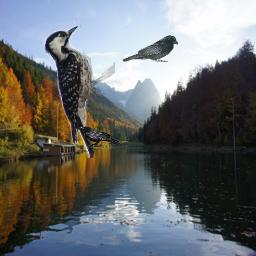Crow: (122, 35, 178, 62), (78, 126, 121, 148)
Woodpecker: (43, 23, 115, 158)
